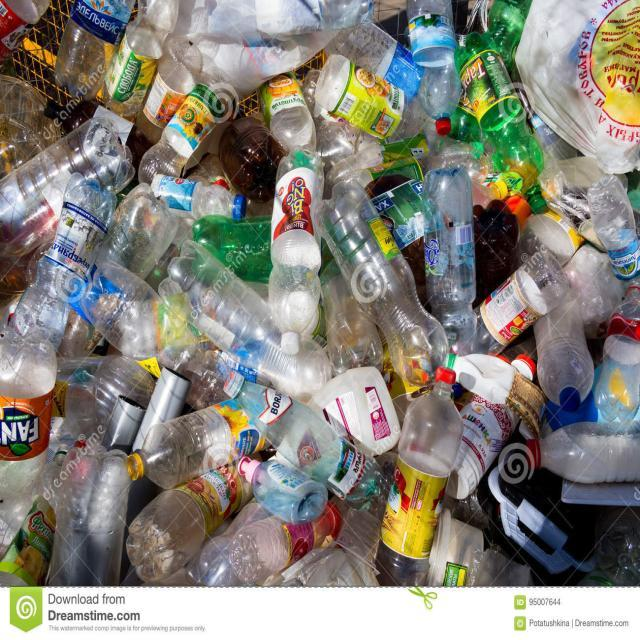Plastic: (308, 174, 450, 388), (153, 236, 337, 399), (72, 255, 236, 406), (219, 368, 379, 511), (0, 116, 137, 267), (5, 171, 117, 352), (373, 365, 463, 589), (452, 30, 550, 218), (122, 463, 253, 591), (124, 398, 272, 496), (0, 322, 57, 558), (136, 60, 236, 186), (268, 149, 324, 356), (222, 496, 342, 587), (420, 169, 478, 351), (476, 245, 568, 355), (50, 452, 124, 588), (524, 416, 640, 488), (533, 285, 598, 413), (138, 36, 204, 148), (410, 0, 460, 132), (595, 275, 639, 419), (62, 0, 126, 96), (147, 173, 250, 228), (256, 69, 316, 153), (596, 178, 640, 279)
